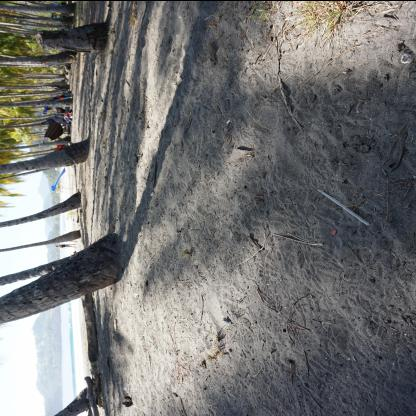plastik: (316, 187, 372, 226)
